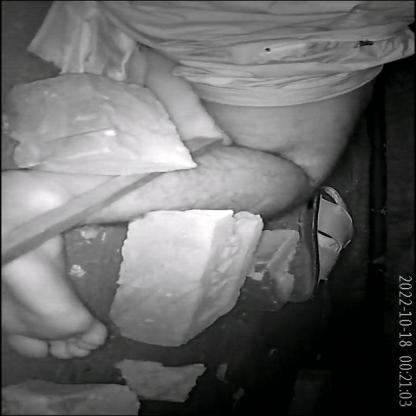leg: (0, 103, 360, 370)
